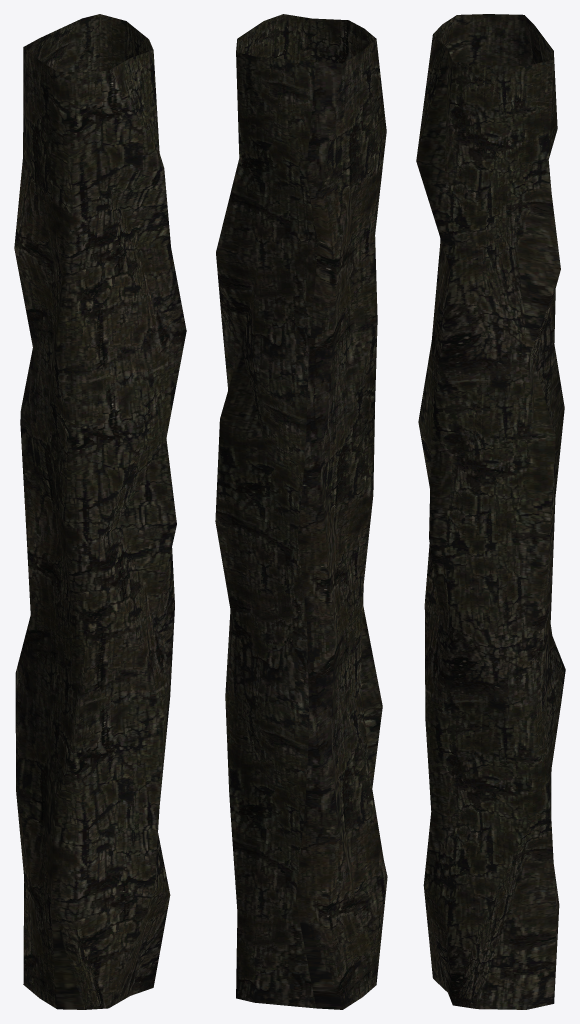
The model's file is welder.dae.
The picture shows the model from 3 angles, left to right: view 1: azimuth 30°, elevation 25°; view 2: azimuth 150°, elevation 25°; view 3: azimuth 270°, elevation 25°; orthographic projection.
Visible parts, largest first — view 1: pCube121; view 2: pCube121; view 3: pCube121.
Boxes of the visible parts, x1,y1,x2,y2 form: pCube121: [14, 14, 186, 1009]; pCube121: [215, 14, 387, 1009]; pCube121: [416, 14, 565, 1009].
Bounding box in the file's own units: 0.607 × 4 × 0.5741.
